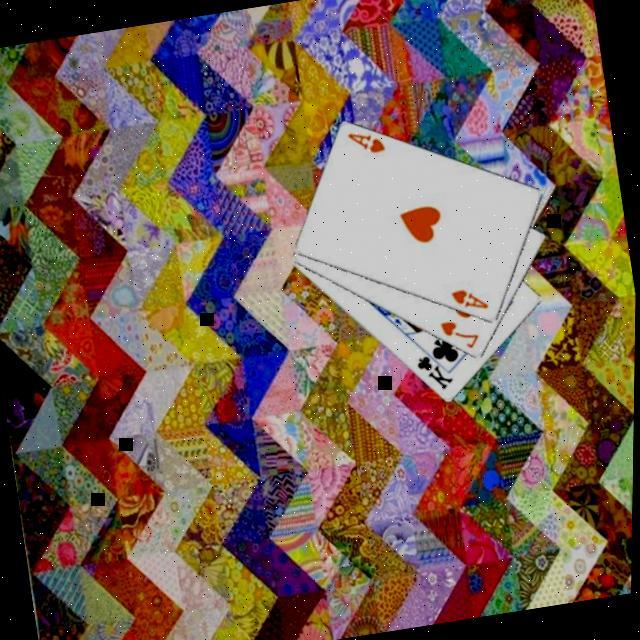7H: (436, 315, 484, 358)
AH: (446, 283, 492, 319), (342, 126, 388, 162)
KC: (410, 342, 457, 398)
